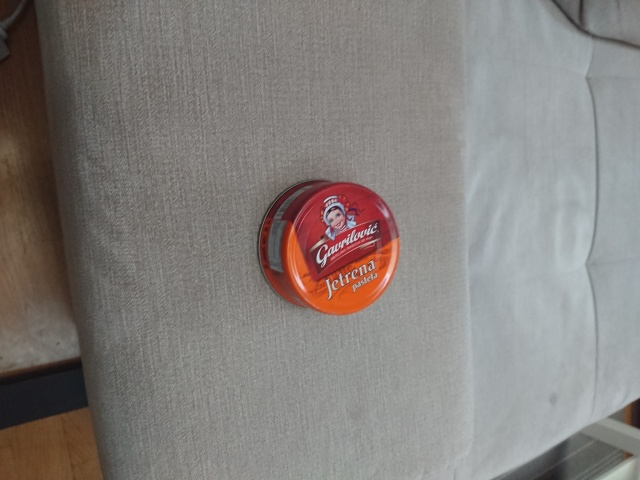Gavrilovic Pork Liver Pate 100g: (253, 175, 404, 321)
